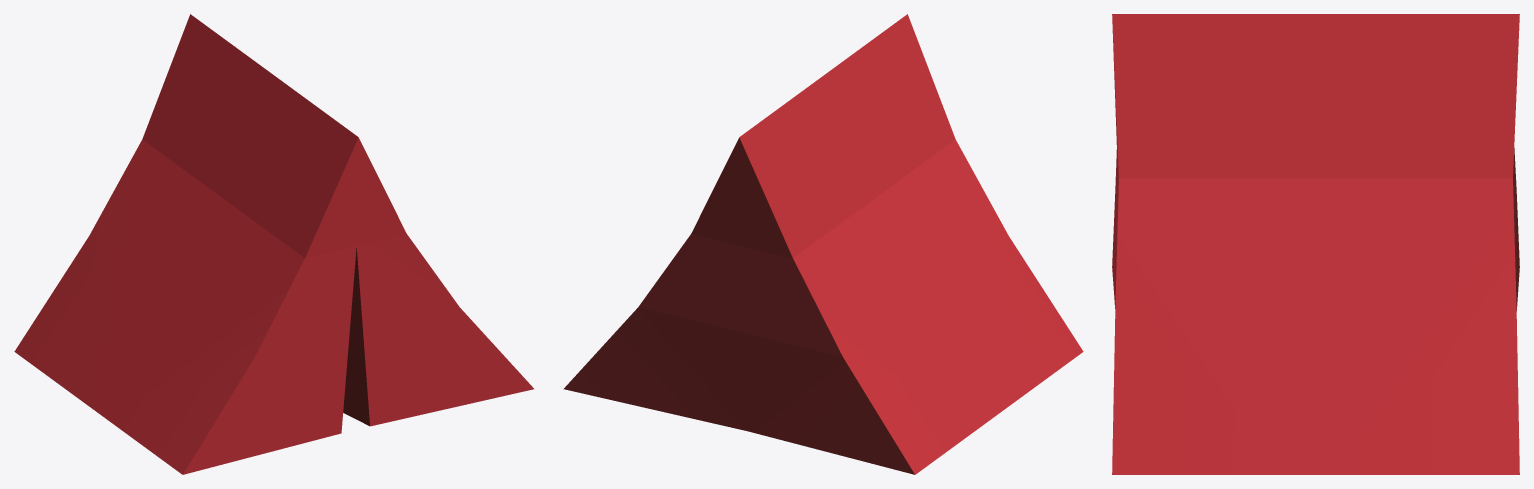
The model's file is props_tent.fbx.
3 views of the same model, side by side, from view 1: azimuth 30°, elevation 25°; view 2: azimuth 150°, elevation 25°; view 3: azimuth 270°, elevation 25° (orthographic). The views are drawn at different scales.
Visible parts, largest first — view 1: props_tent; view 2: props_tent; view 3: props_tent.
Boxes of the visible parts, x1,y1,x2,y2 form: props_tent: (14, 14, 534, 474); props_tent: (563, 14, 1083, 474); props_tent: (1112, 14, 1519, 474).
Bounding box in the file's own units: 200 × 160 × 166.
